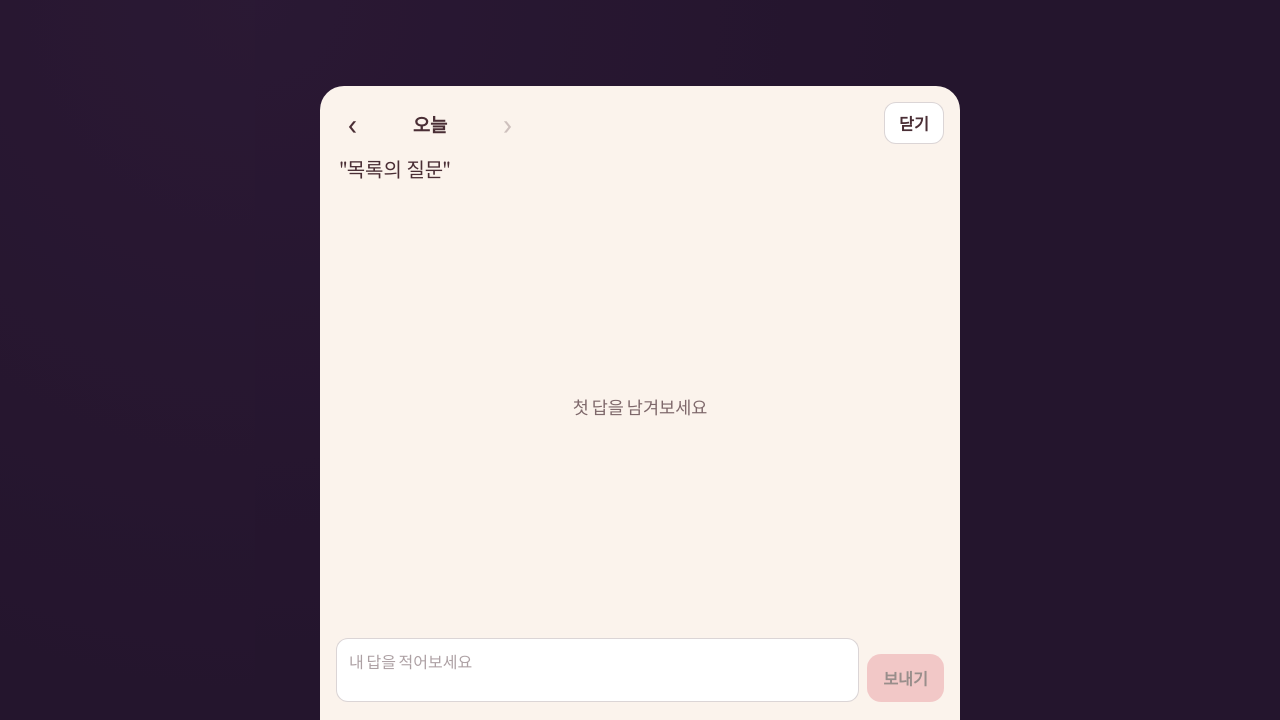
Test: QuestionChat › shows a past day in full and read-only
Click the button named "이전 날" at (352, 123), box [336,104,369,142]
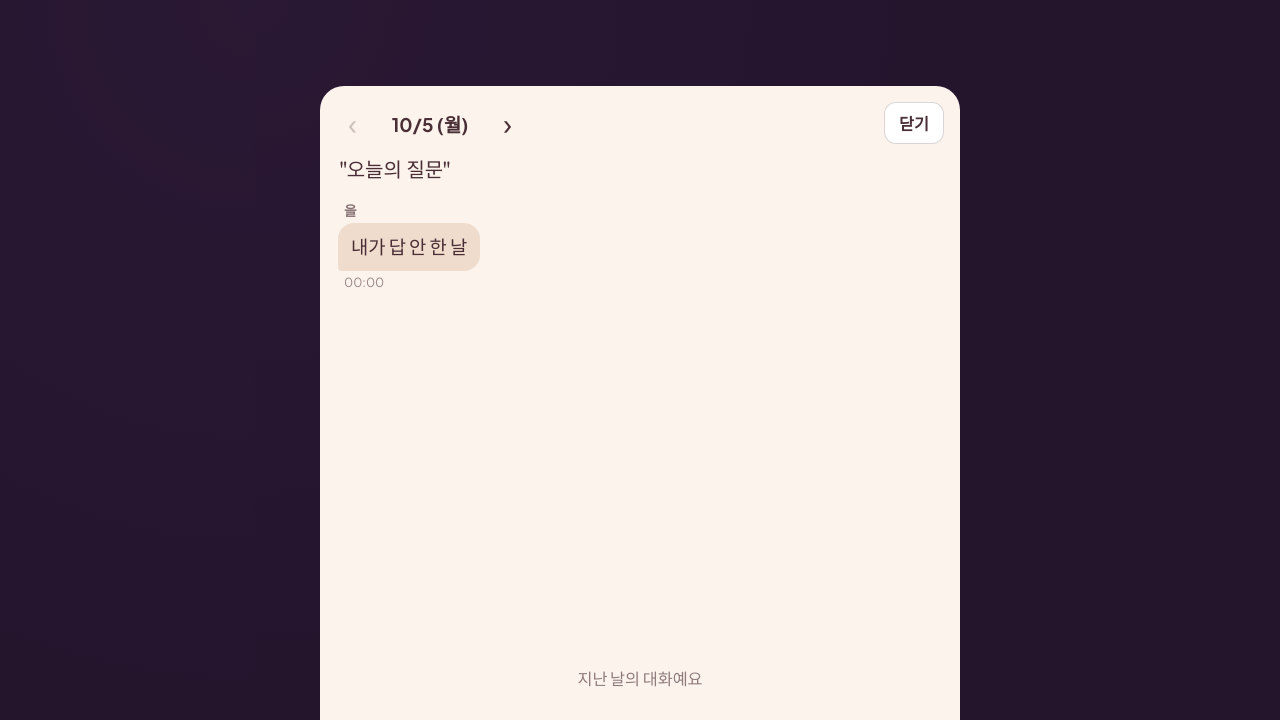
Check: the text "내가 답 안 한 날" is shown, box [338,223,480,271]
Check: the text "지난 날의 대화예요" is shown, box [577,668,702,689]
